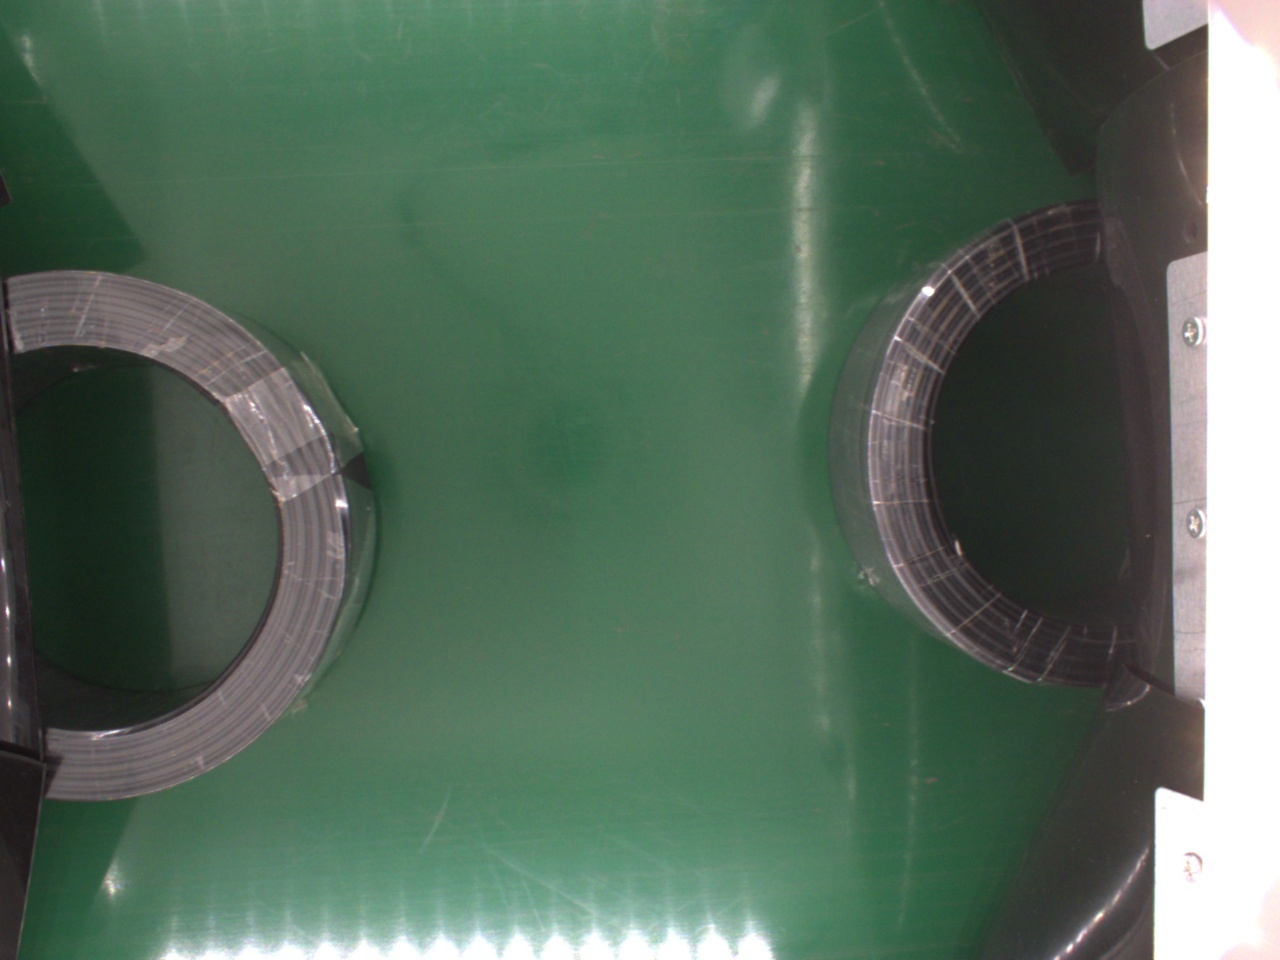black: (10, 265, 382, 797), (830, 200, 1138, 686)
